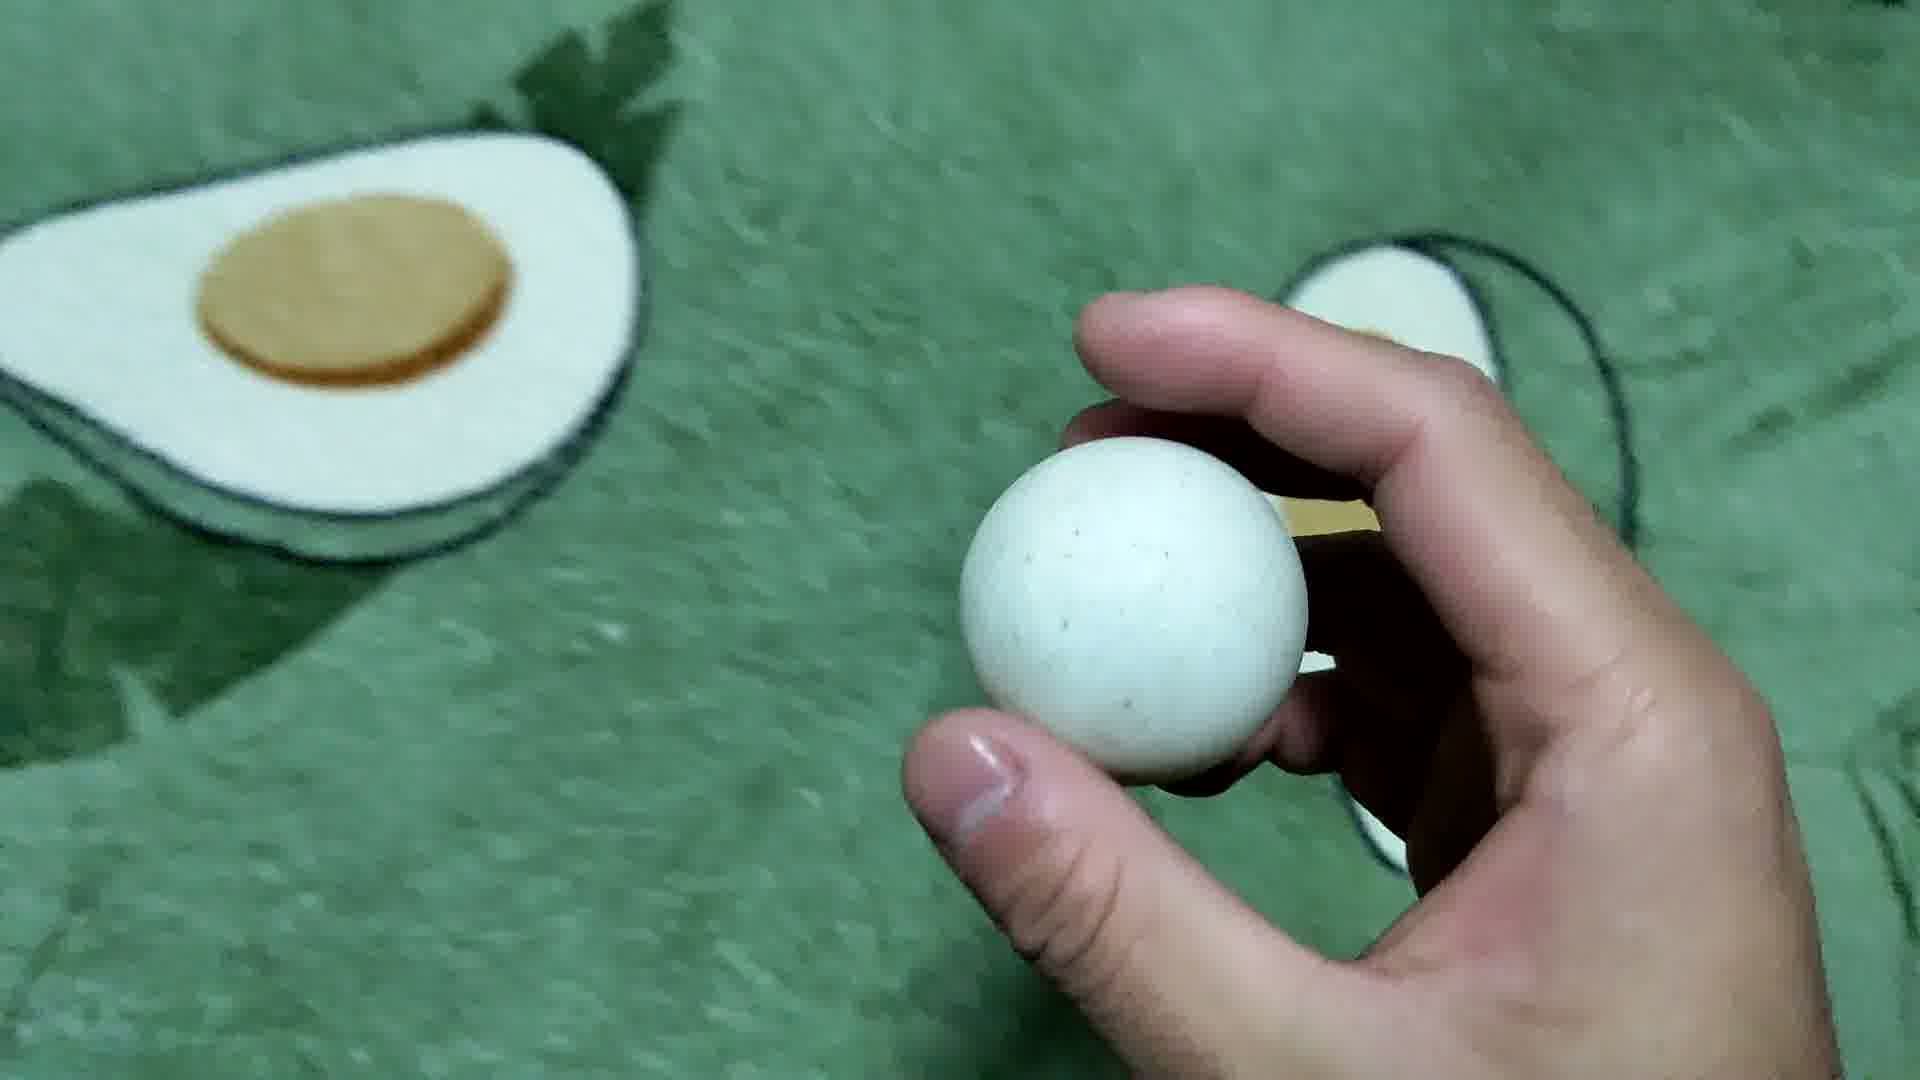Ball: (959, 435, 1305, 779)
